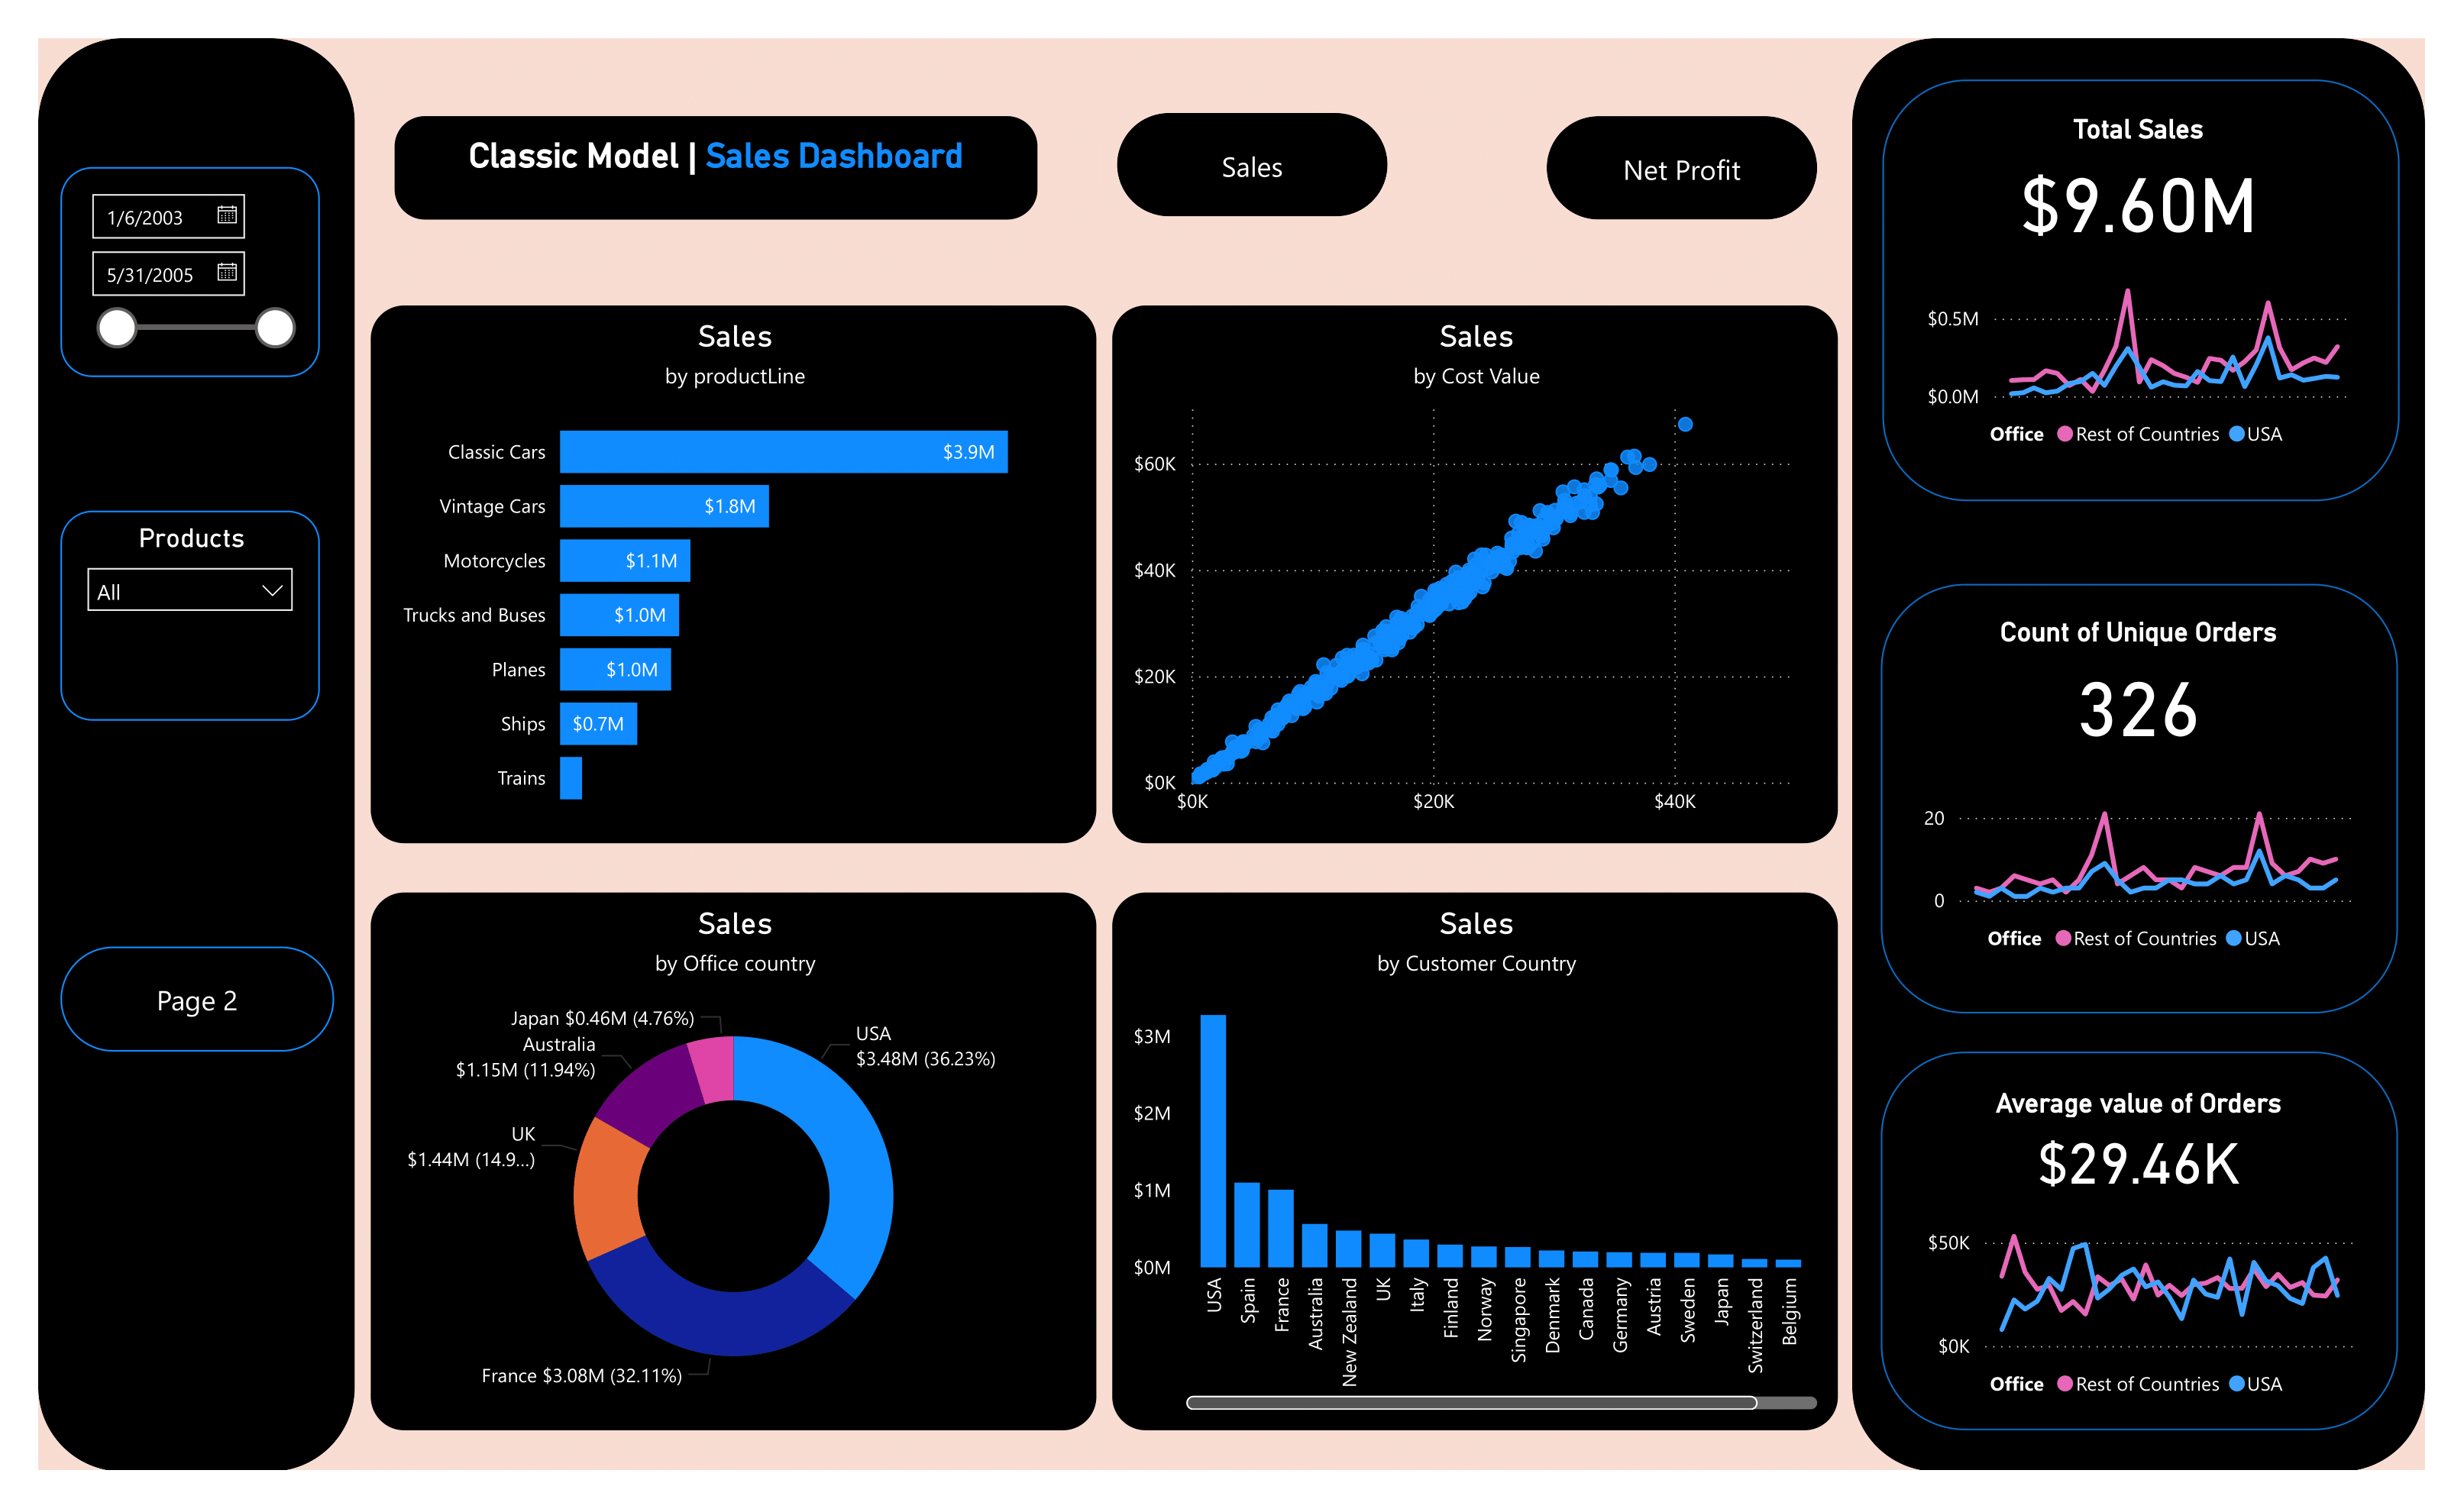

The dashboard page shown, as its layout file describes it:
{"tool":"powerbi","page":{"name":"Sales Overview 1","canvas":[1500,900],"ordinal":0},"visuals":[{"type":"shape","box":[0,0,199.4,900.5],"z":0},{"type":"shape","box":[1140.1,0,360.2,900.5],"z":1000},{"type":"shape","box":[1159.4,25.7,324.8,265.3],"z":2000},{"type":"shape","box":[1157.8,342.5,324.8,270.2],"z":3000},{"type":"shape","title":"Average Value of Each order","box":[1157.8,636.8,324.8,238],"z":4000},{"type":"card","title":"Total Sales","fields":{"Values":["Sum(classicmodels sales_data_for_power_bi.sales_value)"]},"box":[1172.3,46.6,295.9,86.8],"z":5000},{"type":"card","title":"Count of Unique Orders","fields":{"Values":["Count(classicmodels sales_data_for_power_bi.ordernumber)"]},"box":[1172.3,363.4,295.9,86.8],"z":6000},{"type":"card","title":"Average value of Orders","fields":{"Values":["classicmodels sales_data_for_power_bi.Avg Sales per order"]},"box":[1172.3,659.3,295.9,70.8],"z":7000},{"type":"lineChart","fields":{"Y":["Sum(classicmodels sales_data_for_power_bi.sales_value)"],"Category":["classicmodels sales_data_for_power_bi.orderdate.Variation.Date Hierarchy.Year","classicmodels sales_data_for_power_bi.orderdate.Variation.Date Hierarchy.Quarter","classicmodels sales_data_for_power_bi.orderdate.Variation.Date Hierarchy.Month"],"Series":["classicmodels sales_data_for_power_bi.Office Grouped"]},"box":[1181.9,133.5,278.2,133.5],"z":8000},{"type":"lineChart","fields":{"Category":["classicmodels sales_data_for_power_bi.orderdate.Variation.Date Hierarchy.Year","classicmodels sales_data_for_power_bi.orderdate.Variation.Date Hierarchy.Quarter","classicmodels sales_data_for_power_bi.orderdate.Variation.Date Hierarchy.Month"],"Series":["classicmodels sales_data_for_power_bi.Office Grouped"],"Y":["Count(classicmodels sales_data_for_power_bi.ordernumber)"]},"box":[1180.3,450.3,278.2,133.5],"z":9000},{"type":"lineChart","fields":{"Category":["classicmodels sales_data_for_power_bi.orderdate.Variation.Date Hierarchy.Year","classicmodels sales_data_for_power_bi.orderdate.Variation.Date Hierarchy.Quarter","classicmodels sales_data_for_power_bi.orderdate.Variation.Date Hierarchy.Month"],"Series":["classicmodels sales_data_for_power_bi.Office Grouped"],"Y":["classicmodels sales_data_for_power_bi.Avg Sales per order"]},"box":[1181.9,730.1,278.2,133.5],"z":10000},{"type":"clusteredBarChart","fields":{"Category":["classicmodels sales_data_for_power_bi.productLine"],"Y":["Table.Selected Metric"]},"box":[209.3,168,455.4,337.8],"z":11000},{"type":"actionButton","box":[677.7,47.4,170.4,64.8],"z":12000},{"type":"actionButton","box":[947.7,48.9,170.4,64.8],"z":13000},{"type":"scatterChart","fields":{"Y":["Table.Selected Metric"],"X":["Sum(classicmodels sales_data_for_power_bi.cost_of_sales)"],"Category":["classicmodels sales_data_for_power_bi.ordernumber"]},"box":[675.3,168,455.4,337.8],"z":15000},{"type":"donutChart","fields":{"Y":["Table.Selected Metric"],"Category":["classicmodels sales_data_for_power_bi.office_country"]},"box":[209.3,537.5,455.4,337.8],"z":16000},{"type":"clusteredColumnChart","fields":{"Category":["classicmodels sales_data_for_power_bi.customer_country"],"Y":["Table.Selected Metric"]},"box":[675.3,537.5,455.4,337.8],"z":17000},{"type":"textbox","box":[223.8,48.9,404.2,64.8],"z":18000},{"type":"actionButton","box":[14.3,571.4,171.4,65.7],"z":19000},{"type":"slicer","fields":{"Values":["classicmodels sales_data_for_power_bi.orderdate"]},"box":[14.3,81.4,162.9,131.4],"z":20000},{"type":"slicer","title":"Products","fields":{"Values":["classicmodels sales_data_for_power_bi.productName"]},"box":[14.3,297.1,162.9,131.4],"z":20001}]}

Visuals, with their boxes in screenshot pixels (x1, y1, x2, y2):
shape: <region>38, 38, 356, 1471</region>
shape: <region>1853, 38, 2426, 1471</region>
shape: <region>1884, 79, 2401, 502</region>
shape: <region>1881, 583, 2398, 1013</region>
"Average Value of Each order" shape: <region>1881, 1052, 2398, 1430</region>
"Total Sales" card: <region>1904, 112, 2375, 250</region>
"Count of Unique Orders" card: <region>1904, 616, 2375, 754</region>
"Average value of Orders" card: <region>1904, 1087, 2375, 1200</region>
lineChart - Sum(classicmodels sales_data_for_power_bi.sales_value) x classicmodels sales_data_for_power_bi.orderdate.Variation.Date Hierarchy.Year: <region>1919, 250, 2362, 464</region>
lineChart - classicmodels sales_data_for_power_bi.orderdate.Variation.Date Hierarchy.Year x classicmodels sales_data_for_power_bi.orderdate.Variation.Date Hierarchy.Quarter: <region>1917, 755, 2359, 968</region>
lineChart - classicmodels sales_data_for_power_bi.orderdate.Variation.Date Hierarchy.Year x classicmodels sales_data_for_power_bi.orderdate.Variation.Date Hierarchy.Quarter: <region>1919, 1200, 2362, 1413</region>
clusteredBarChart - classicmodels sales_data_for_power_bi.productLine x Table.Selected Metric: <region>371, 305, 1096, 843</region>
actionButton: <region>1117, 114, 1388, 217</region>
actionButton: <region>1547, 116, 1818, 219</region>
scatterChart - Table.Selected Metric x Sum(classicmodels sales_data_for_power_bi.cost_of_sales): <region>1113, 305, 1838, 843</region>
donutChart - Table.Selected Metric x classicmodels sales_data_for_power_bi.office_country: <region>371, 893, 1096, 1431</region>
clusteredColumnChart - classicmodels sales_data_for_power_bi.customer_country x Table.Selected Metric: <region>1113, 893, 1838, 1431</region>
textbox: <region>394, 116, 1038, 219</region>
actionButton: <region>61, 948, 334, 1052</region>
slicer - classicmodels sales_data_for_power_bi.orderdate: <region>61, 168, 320, 377</region>
"Products" slicer: <region>61, 511, 320, 720</region>
